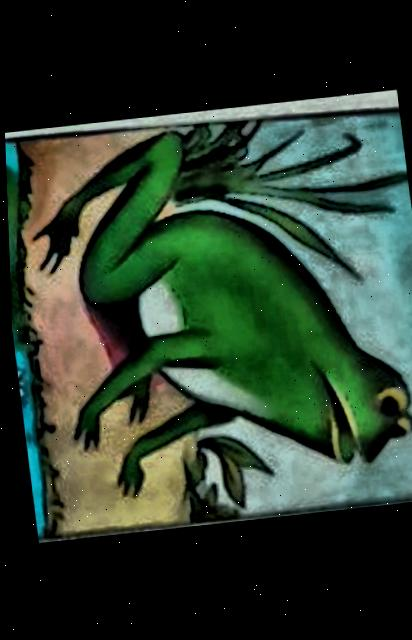La Rana: (4, 113, 412, 539)
